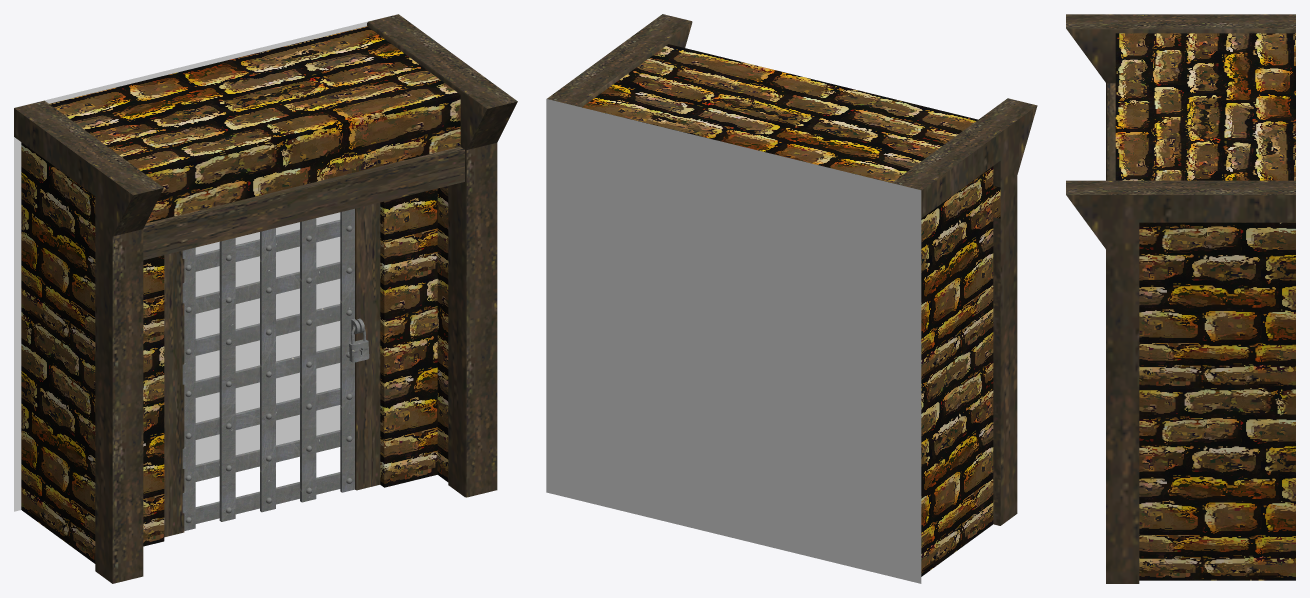
Rendered from stoneDoorB.fbx.
The picture shows the model from 3 angles, left to right: view 1: azimuth 30°, elevation 25°; view 2: azimuth 150°, elevation 25°; view 3: azimuth 270°, elevation 25°; orthographic projection. The views are drawn at different scales.
Parts seen in each view (by area): view 1: stoneDoorB; view 2: stoneDoorB; view 3: stoneDoorB.
Boxes of the visible parts, x1,y1,x2,y2 form: stoneDoorB: (14, 14, 517, 583); stoneDoorB: (546, 14, 1037, 583); stoneDoorB: (1066, 14, 1295, 583).
Bounding box in the file's own units: 300 × 301 × 161.
